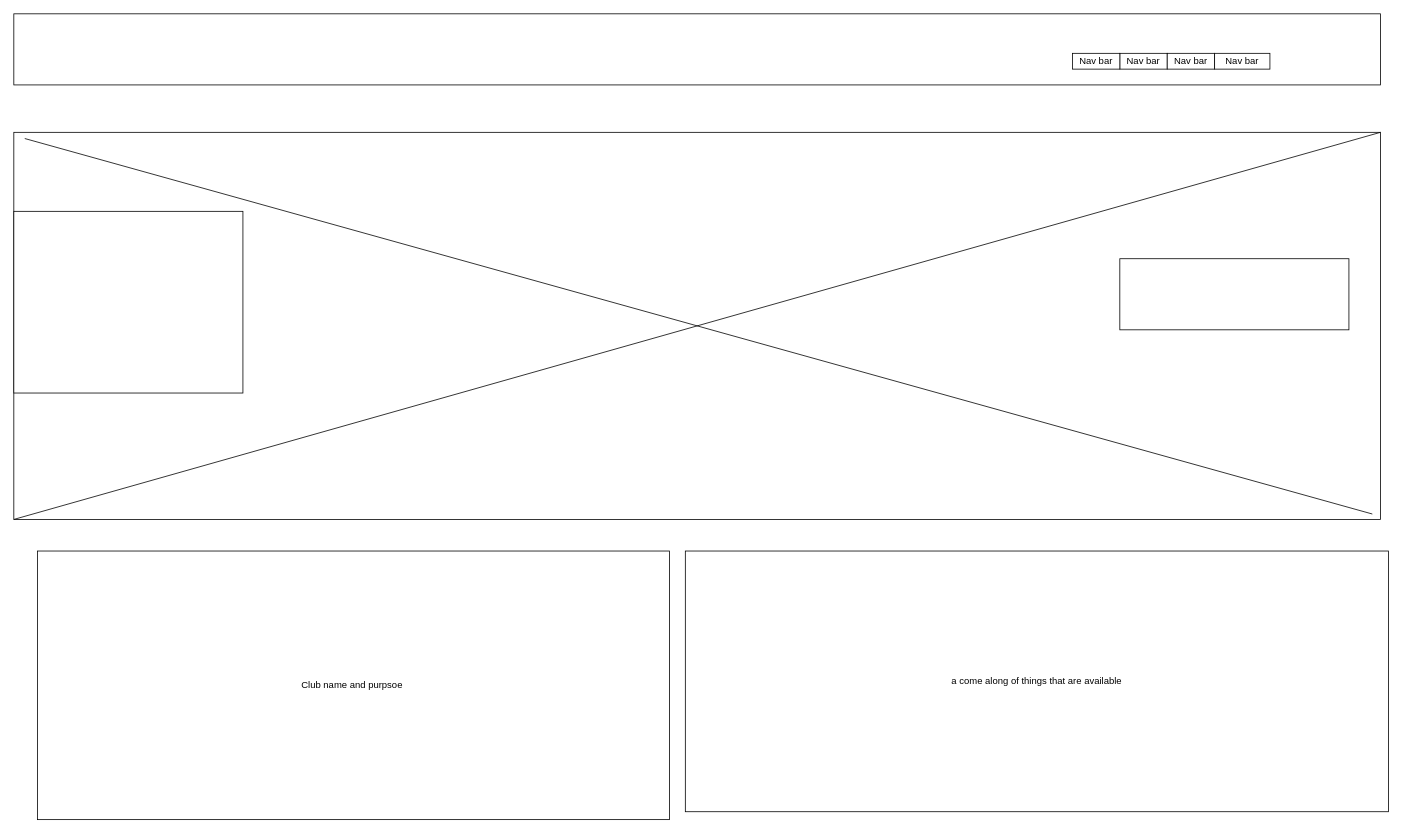
This 1402x833 diagram has some shape labels left out. The shapes that lost their labels are listed below. From the top down, each one's box as (x1, y1, x2, y2) in pixels, then its label:
(13, 13, 1381, 85): Title
(13, 211, 243, 393): intro text
(1119, 258, 1349, 330): call to action to go to games played
